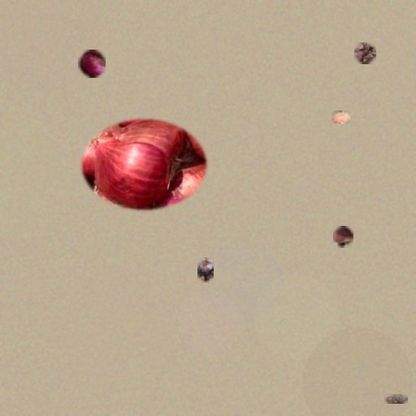damaged: (332, 110, 350, 124)
healthy: (78, 116, 210, 213), (78, 50, 106, 78)
rotten: (354, 42, 376, 64), (197, 258, 214, 284), (384, 394, 408, 404)
sprouted: (333, 226, 353, 248)
